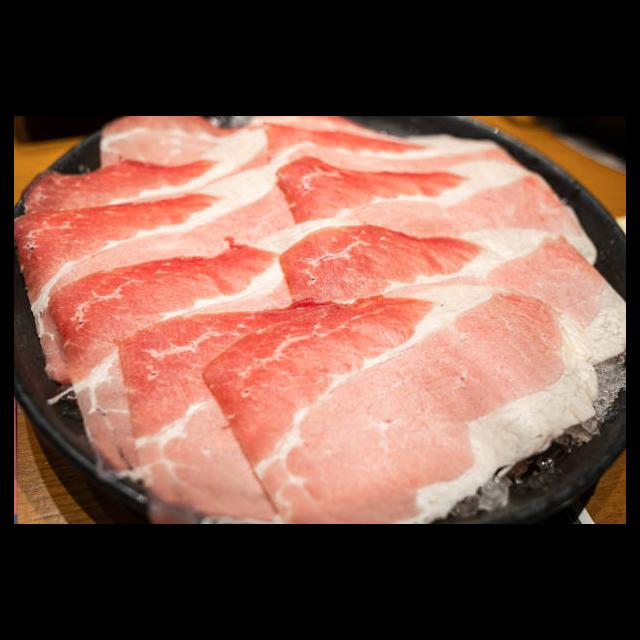pork: (217, 287, 566, 519), (14, 156, 280, 320), (276, 218, 595, 302), (268, 144, 523, 213)
